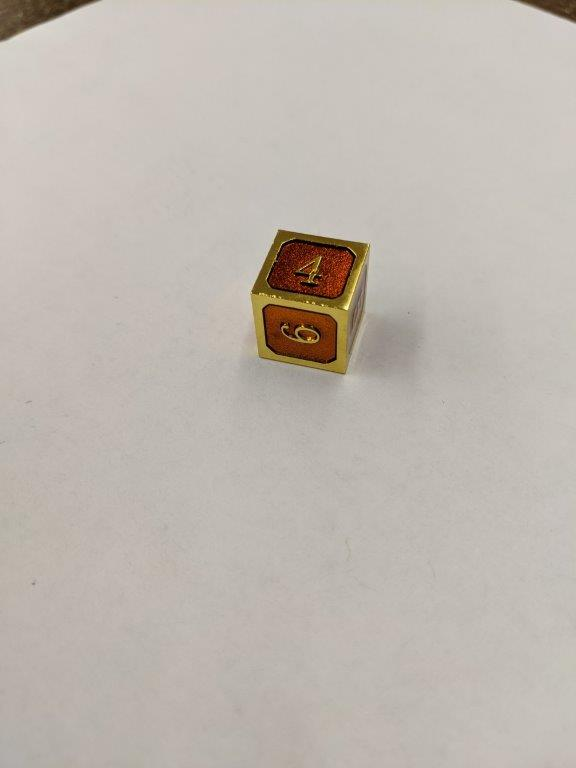d6-4: (250, 228, 373, 377)
